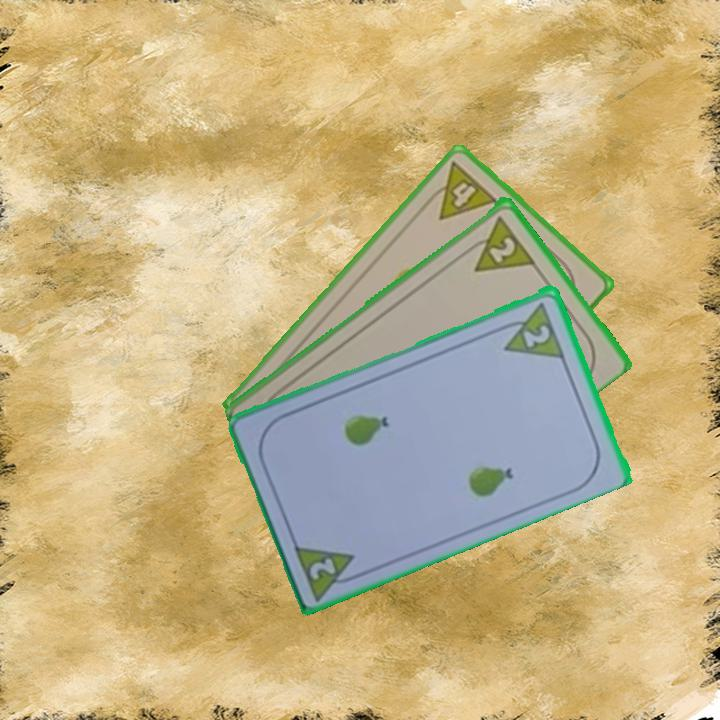2p: (289, 539, 367, 601), (494, 297, 568, 361), (485, 232, 519, 266)
4p: (420, 158, 501, 223)
